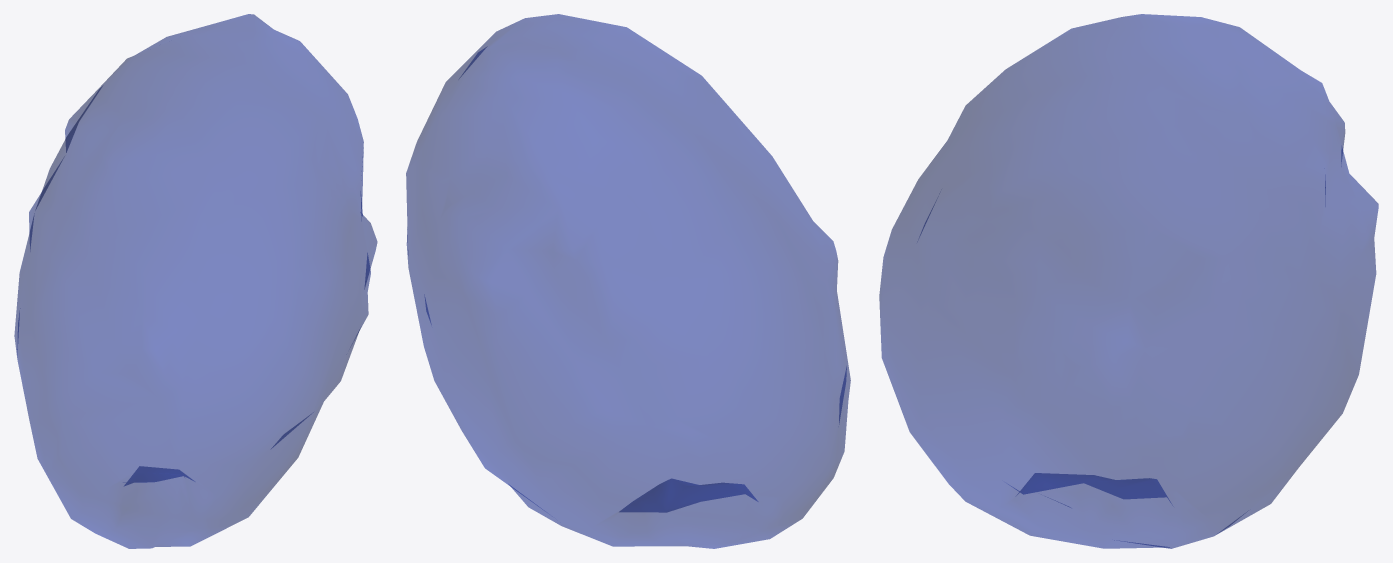
File: nucleus-2.obj
3 views of the same model, side by side, from view 1: azimuth 30°, elevation 25°; view 2: azimuth 150°, elevation 25°; view 3: azimuth 270°, elevation 25° (orthographic). The views are drawn at different scales.
Parts seen in each view (by area): view 1: duplicate_nucleus_2.017; view 2: duplicate_nucleus_2.017; view 3: duplicate_nucleus_2.017.
Part boxes in pixels (box(x1,y1,x2,y2)): duplicate_nucleus_2.017: box(14, 14, 377, 548); duplicate_nucleus_2.017: box(406, 14, 850, 548); duplicate_nucleus_2.017: box(879, 14, 1378, 548).
Size of the model in its own units: 0.6993 by 0.88 by 0.7216.
